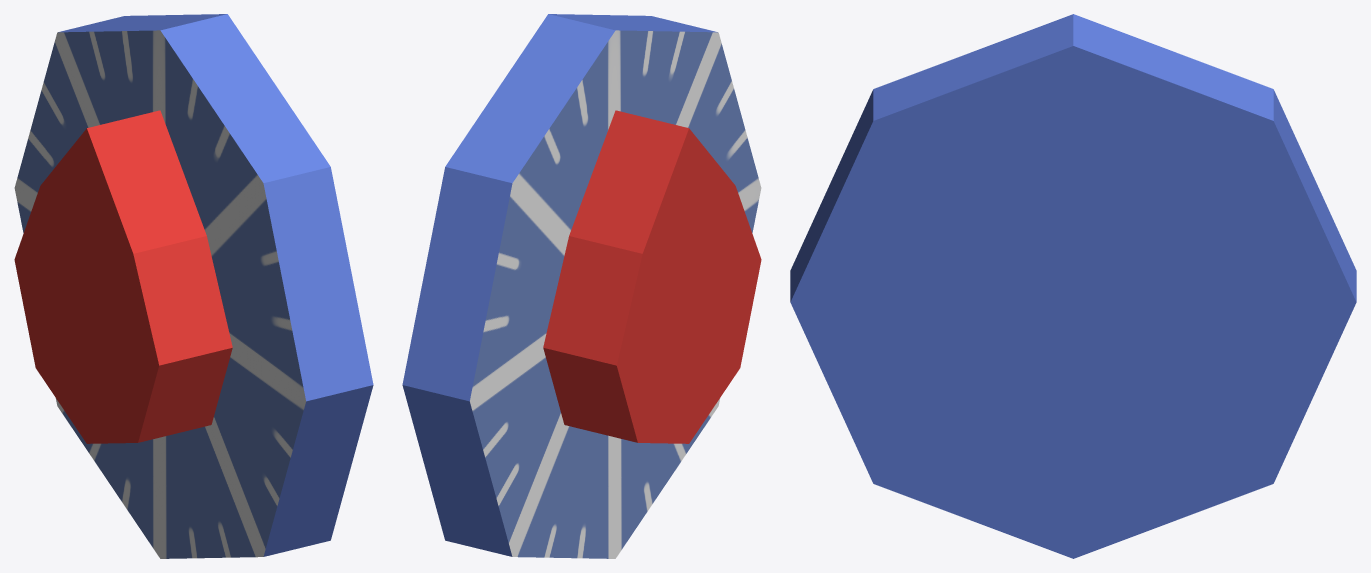
File: RotatingSwitchV1.fbx
The picture shows the model from 3 angles, left to right: view 1: azimuth 30°, elevation 25°; view 2: azimuth 150°, elevation 25°; view 3: azimuth 270°, elevation 25°; orthographic projection. The views are drawn at different scales.
Parts seen in each view (by area): view 1: Base, Rotate; view 2: Base, Rotate; view 3: Base.
Boxes of the visible parts, <box> form: Base: <box>14,14,373,558</box>; Rotate: <box>14,110,232,443</box>; Base: <box>402,14,761,558</box>; Rotate: <box>543,110,761,443</box>; Base: <box>790,14,1356,558</box>.
Bounding box in the file's own units: 4.18 × 15 × 15.
3 materials, 1 textured.
